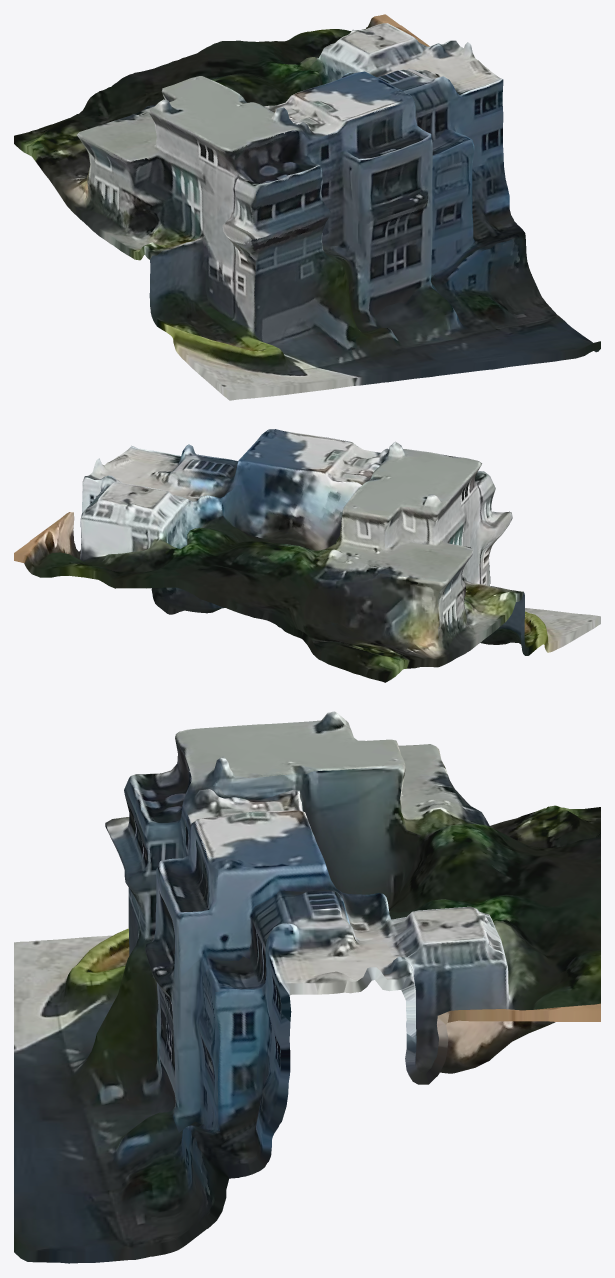
Rendered from z20-167716-405195-h0-yup-uvflip-v3-world.glb.
3 renders of one model, top to bottom at view 1: azimuth 30°, elevation 25°; view 2: azimuth 150°, elevation 25°; view 3: azimuth 270°, elevation 25°, orthographic. The views are drawn at different scales.
Size of the model in its own units: 30.16 by 19.64 by 30.32.
Materials: 1 (1 with a texture image).
